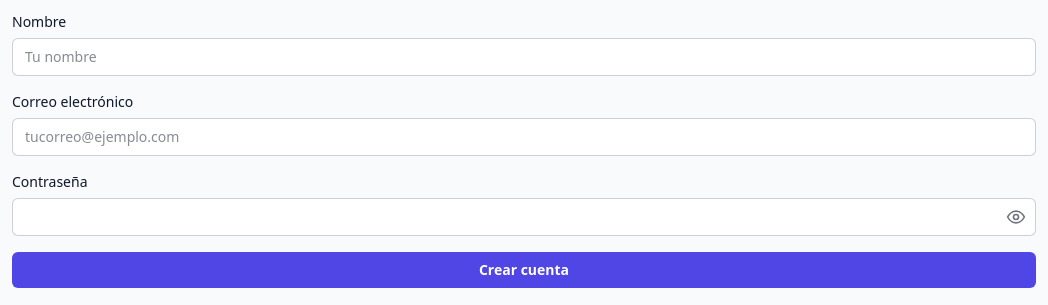
it: FormularioRegistro › mientras espera al servidor deshabilita el botón y muestra el estado de carga
Type "Ana Pérez" into the field labelled "Nombre". click: [524, 57]
box: [12,38,1036,76]
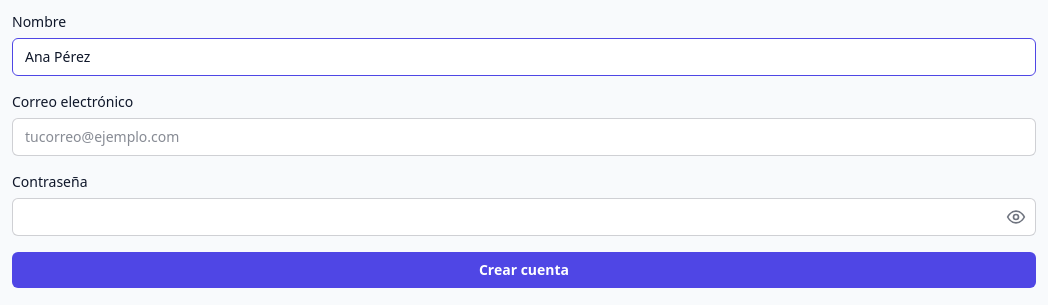
Type "ana@ejemplo.com" into the field labelled "Correo electrónico". click: [524, 137]
box: [12,118,1036,156]
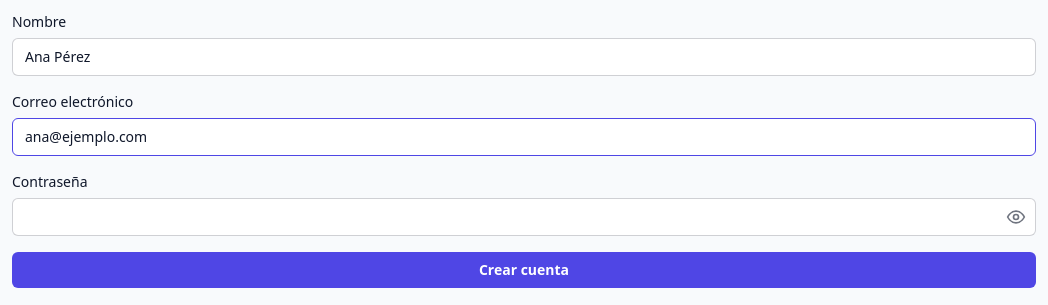
Type "clave-de-ejemplo" into the password field labelled "Contraseña". click: [524, 217]
box: [12,198,1036,236]
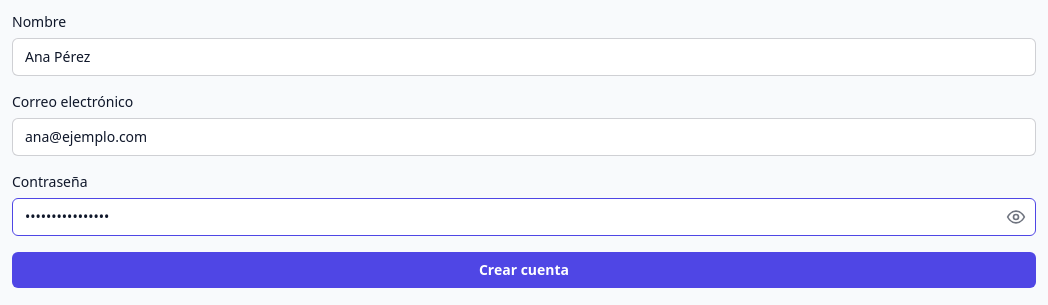
Click the button "Crear cuenta". click: [524, 270]
box: [12,252,1036,288]
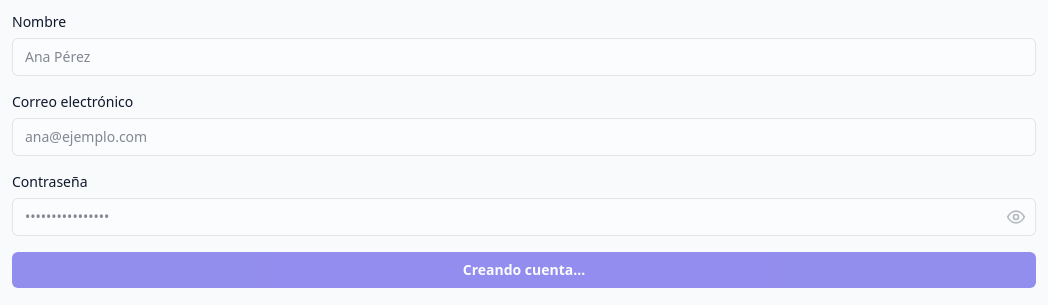
Result: the button "Creando cuenta…" is disabled at [12,252,1036,288]
